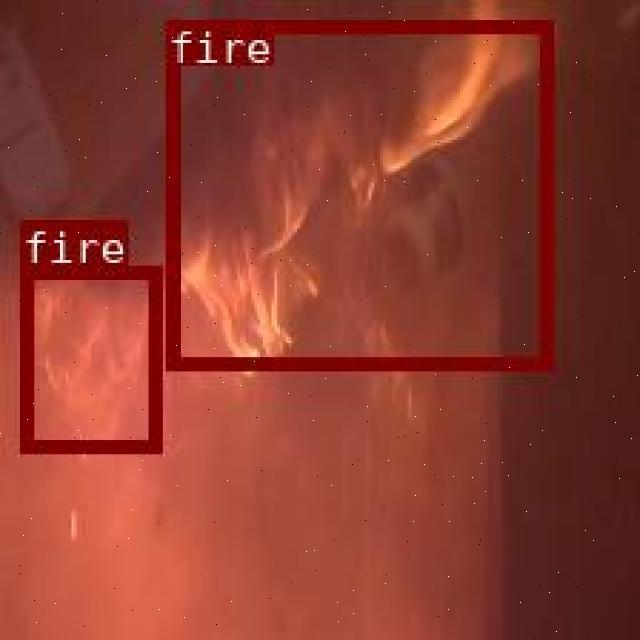fire: (164, 20, 550, 366), (20, 265, 158, 451)
